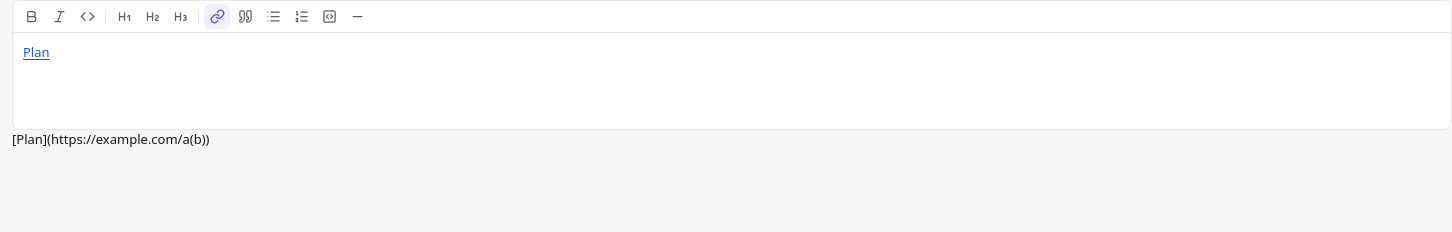
Scenario: edits a completed link alias and exact destination through double click
Double-click the link "Plan": x=36, y=52 [23,43,50,61]
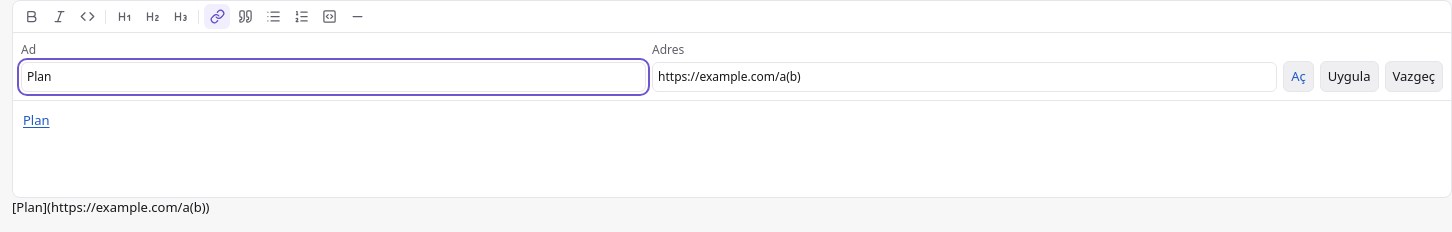
Expected: the field named "Bağlantı adresi" holds "https://example.com/a(b)", [652,62,1277,92]
Replace the text in the field named "Bağlantı adı" with "Yeni": x=334, y=77 [21,62,646,92]
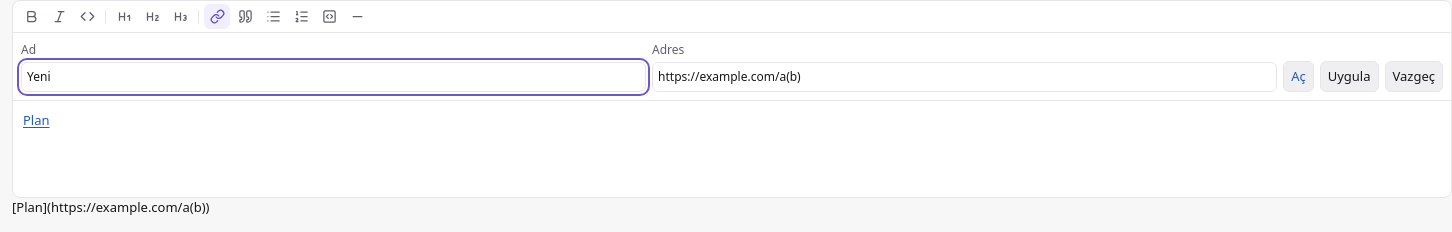
Click the button "Uygula": x=1349, y=76 [1320,60,1378,92]
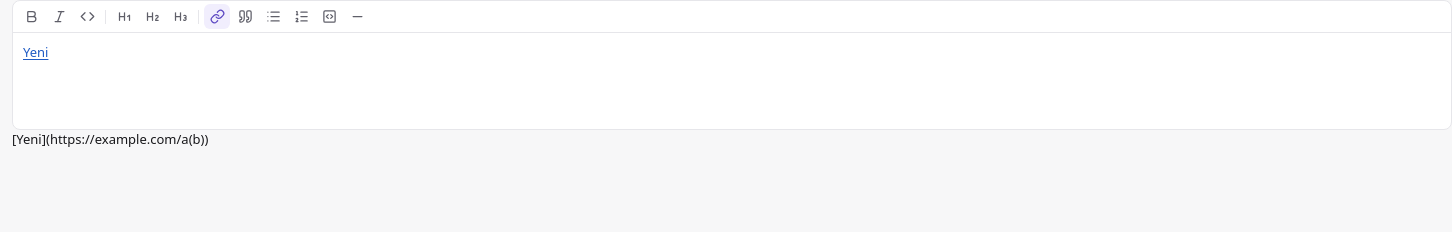
Expected: the field with class "cm-content" reads "Yeni", [23,43,48,61]
